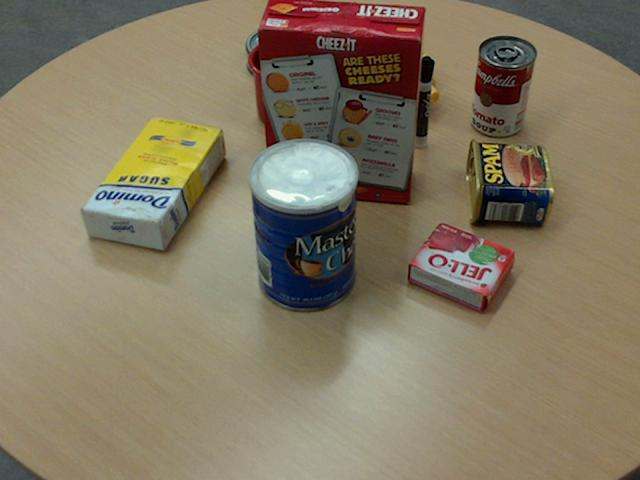cracker_box: (255, 0, 424, 202)
gelatin_box: (408, 221, 516, 311)
large_marker: (411, 56, 434, 147)
master_chef_can: (247, 138, 357, 312)
mug: (247, 37, 325, 129)
mustard_bottle: (317, 10, 438, 104)
potted_meat_can: (464, 138, 552, 222)
sugar_box: (79, 115, 224, 249)
tomato_soup_can: (471, 35, 536, 136)
tuna_fish_can: (244, 25, 308, 80)
